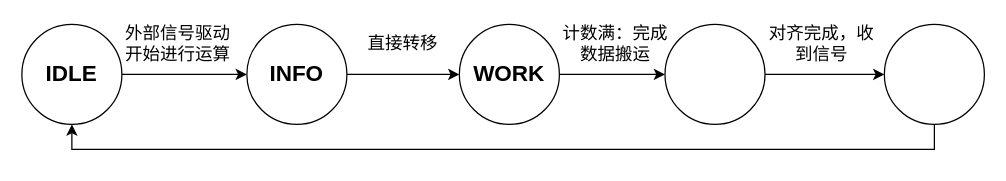
This 1006x181 diagram has some shape labels left out. Each missing label, with the centre of its shape:
FINISH: the point at 933,73
WAIT: the point at 714,73
